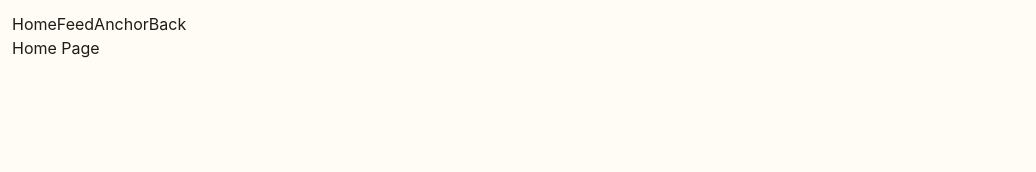
it: useFocusMainOnRouteChange › focuses <main> after navigating to a new pathname
Click the link "Feed" at (75, 24), box x1=57 y1=14 x2=94 y2=34
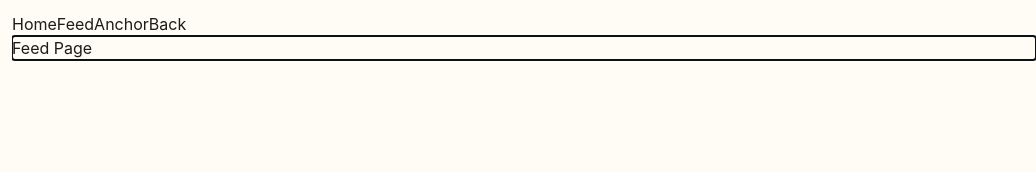
Now the heading "Feed Page" is shown, box x1=12 y1=38 x2=92 y2=58
